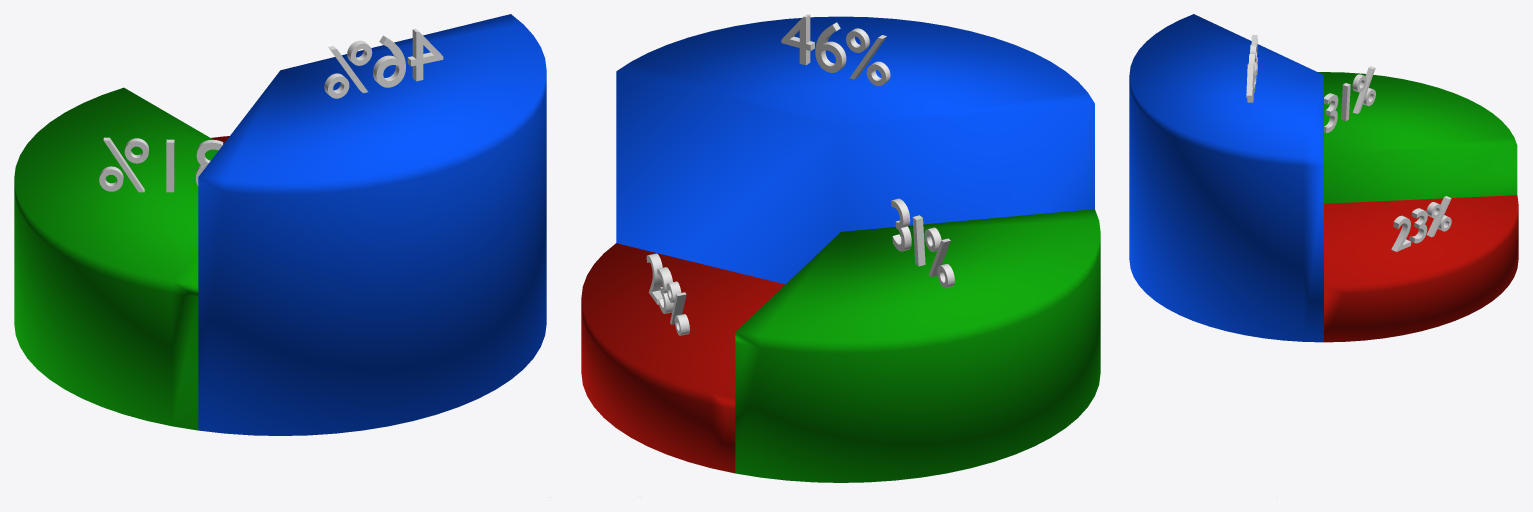
File: pie-animation.fbx
The picture shows the model from 3 angles, left to right: view 1: azimuth 30°, elevation 25°; view 2: azimuth 150°, elevation 25°; view 3: azimuth 270°, elevation 25°; orthographic projection. The views are drawn at different scales.
Parts seen in each view (by area): view 1: Cylinder.001, Cylinder.002, Text.002, Text.001; view 2: Cylinder.001, Cylinder.002, Cylinder.003, Text.002, Text.001, Text; view 3: Cylinder.001, Cylinder.003, Cylinder.002, Text, Text.001, Text.002.
Boxes of the visible parts, bbox=[...] form: Cylinder.001: bbox=[198, 14, 546, 435]; Cylinder.002: bbox=[14, 87, 218, 430]; Text.002: bbox=[324, 28, 443, 98]; Text.001: bbox=[99, 137, 223, 192]; Cylinder.001: bbox=[616, 16, 1094, 284]; Cylinder.002: bbox=[735, 209, 1100, 482]; Cylinder.003: bbox=[581, 243, 785, 473]; Text.002: bbox=[781, 14, 890, 85]; Text.001: bbox=[891, 198, 954, 288]; Text: bbox=[646, 253, 689, 335]; Cylinder.001: bbox=[1129, 14, 1323, 342]; Cylinder.003: bbox=[1324, 195, 1518, 342]; Cylinder.002: bbox=[1318, 72, 1517, 203]; Text: bbox=[1391, 196, 1451, 251]; Text.001: bbox=[1324, 66, 1375, 132]; Text.002: bbox=[1246, 35, 1257, 102].
Bounding box in the file's own units: 20410 × 21448 × 20000.
